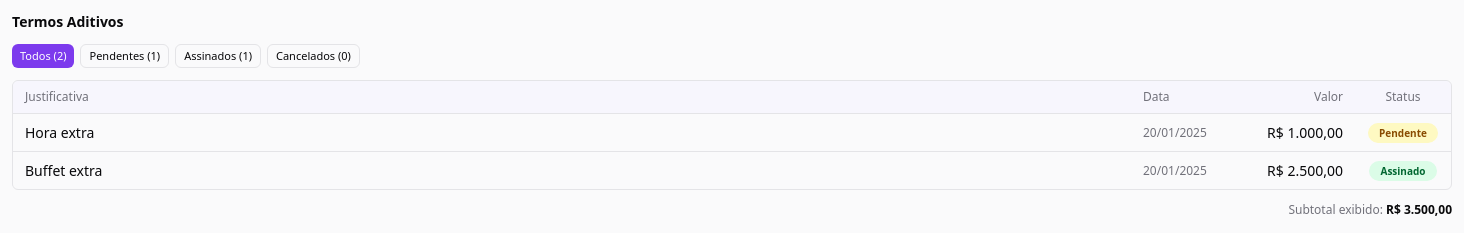
ContractAddendumList › filtra aditivos por status e exibe subtotal do filtro
The image size is (1464, 233).
Expected: the text "Hora extra" is shown, [25,123,94,142]
Expected: the text "Buffet extra" is shown, [25,161,102,180]
Click the button "Pendentes (1)".
click(125, 56)  # box [80,44,169,68]
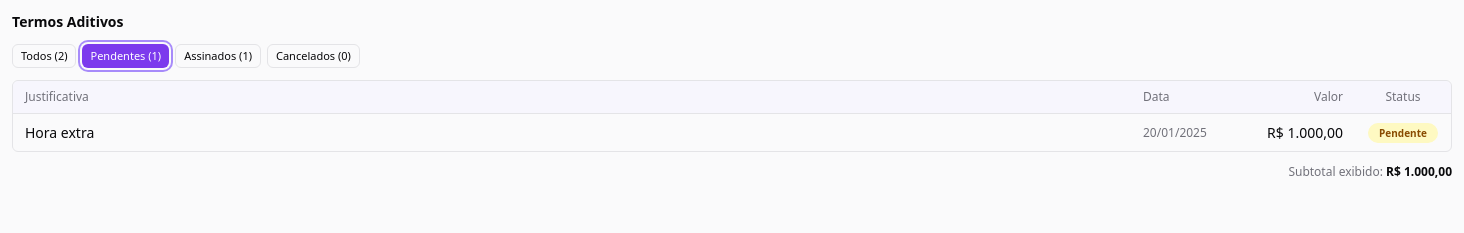
Expected: the text "Hora extra" is shown, [25,123,94,142]
Now the text "Buffet extra" is gone
Now the text with test id "addendum-subtotal" shows "1.000,00", box [1404,163,1452,180]
Click the button "Assinados (1)".
click(218, 56)  # box [175,44,261,68]
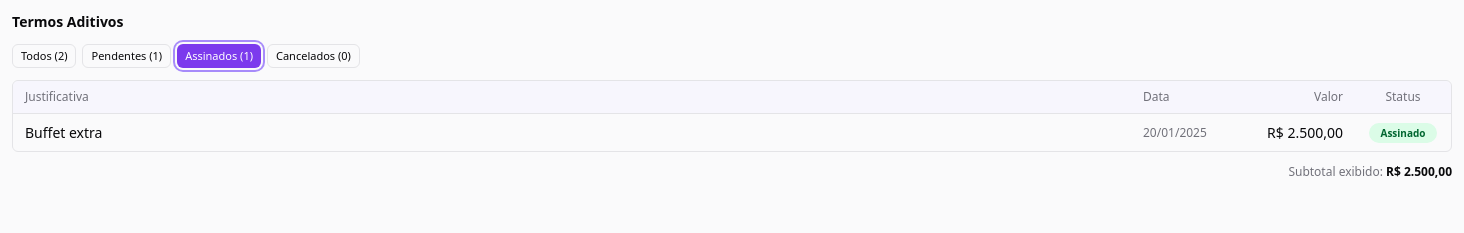
Now the text "Hora extra" is gone
Now the text "Buffet extra" is shown, box [25,123,102,142]
Now the text with test id "addendum-subtotal" shows "2.500,00", box [1404,163,1452,180]
